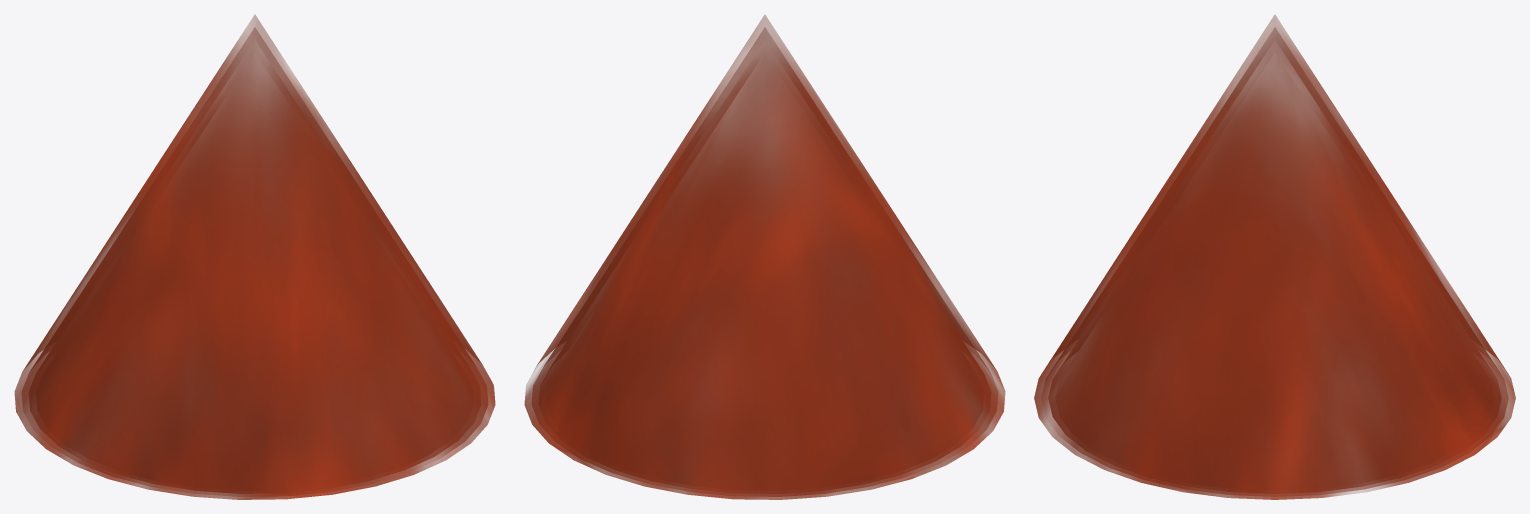
File: mist_horror.glb
3 renders of one model, left to right at view 1: azimuth 30°, elevation 25°; view 2: azimuth 150°, elevation 25°; view 3: azimuth 270°, elevation 25°, orthographic.
Parts seen in each view (by area): view 1: Cone.004, Cone.003, Cone.002; view 2: Cone.004, Cone.003, Cone.002; view 3: Cone.004, Cone.003, Cone.002, Cone.001.
Part boxes in pixels (x1,y1,x2,y2): Cone.004: (14,15,495,499); Cone.003: (22,28,487,495); Cone.002: (30,41,452,493); Cone.004: (524,15,1005,499); Cone.003: (532,28,996,496); Cone.002: (551,41,983,467); Cone.004: (1034,15,1515,499); Cone.003: (1049,28,1507,495); Cone.002: (1049,41,1500,490); Cone.001: (1332,360,1374,418).
Size of the model in its own units: 42.5 by 37.39 by 42.5.
1 material, 1 textured.
